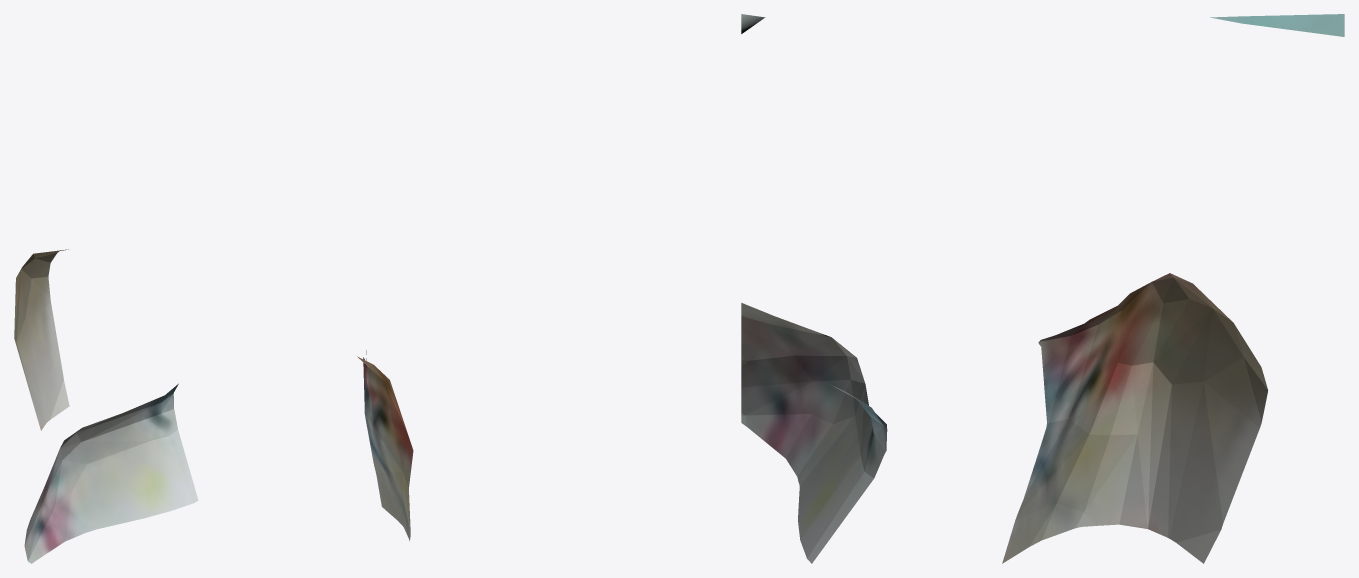
3 renders of one model, left to right at view 1: azimuth 30°, elevation 25°; view 2: azimuth 150°, elevation 25°; view 3: azimuth 270°, elevation 25°, orthographic. The views are drawn at different scales.
Size of the model in its own units: 24.62 by 42.87 by 42.87.
Materials: 1 (1 with a texture image).
